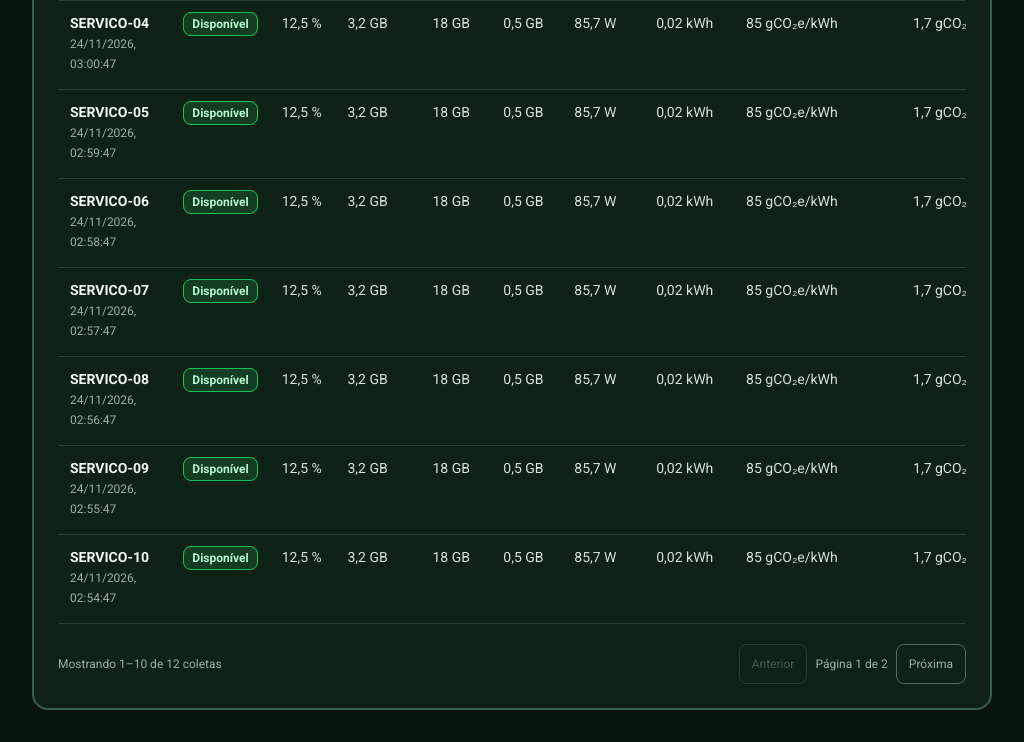
HistoricoPage › ordena cronologicamente e mantém a paginação sincronizada com os resultados
(page scrolled)
Expected: the text "Página 1 de 2" is shown, [815,656,888,672]
Expected: the row "SERVICO-11" is not shown
Step 1. Click the button with aria-label "Próxima página" → x=931, y=664, box [896,644,966,684]
(page scrolled)
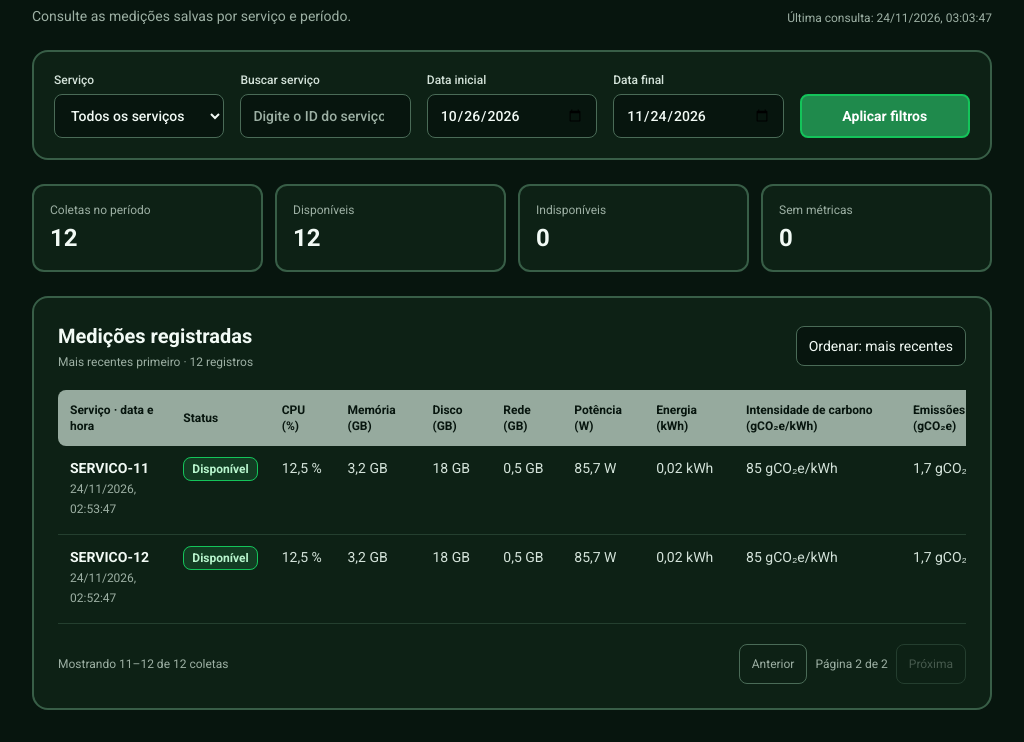
Expected: the number of rows is 3, [58,390,966,446]; [58,446,966,534]; [58,534,966,624]
Now the row "SERVICO-11" is shown, box [58,446,966,534]
Now the text "Página 2 de 2" is shown, box [815,656,888,672]
